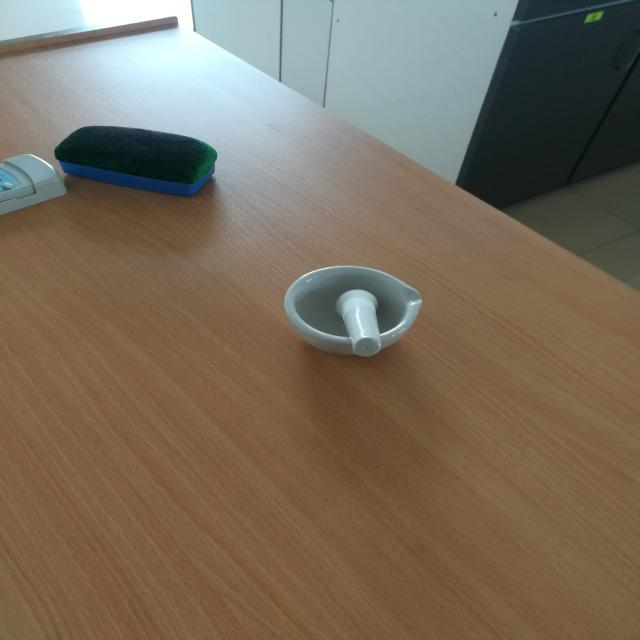Porcelain_Mortar Pestle: (261, 230, 454, 392)
